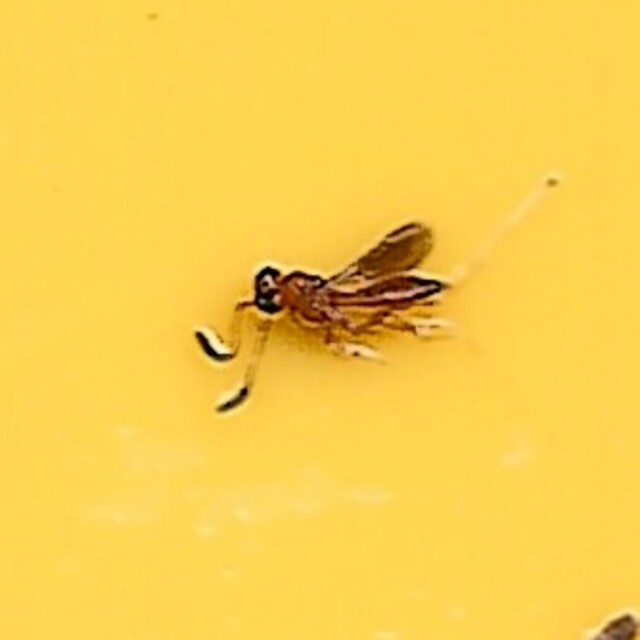Hymenoptera: (192, 218, 448, 422)
